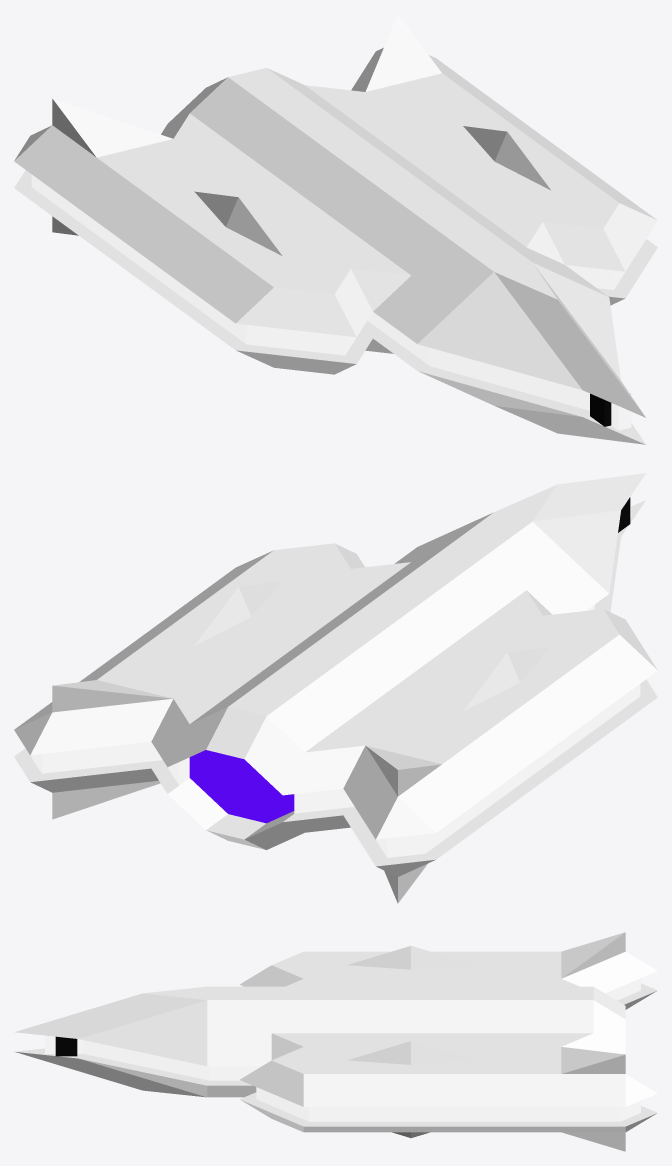
Rendered from 0-Quartz.glb.
The picture shows the model from 3 angles, top to bottom: view 1: azimuth 30°, elevation 25°; view 2: azimuth 150°, elevation 25°; view 3: azimuth 270°, elevation 25°; orthographic projection. The views are drawn at different scales.
Parts seen in each view (by area): view 1: Core.002; view 2: Core.002; view 3: Core.002.
Boxes of the visible parts, left/top/right/bottom form: Core.002: left=14, top=14, right=657, bottom=444; Core.002: left=14, top=473, right=657, bottom=903; Core.002: left=14, top=932, right=657, bottom=1151.
Size of the model in its own units: 0.55 by 0.1667 by 1.
